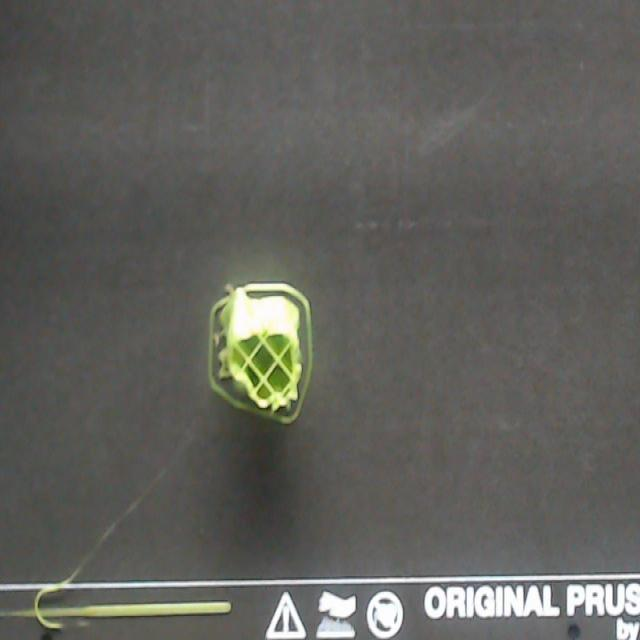mistake: (31, 564, 83, 633), (96, 523, 118, 543), (213, 332, 226, 349), (224, 286, 233, 294)
